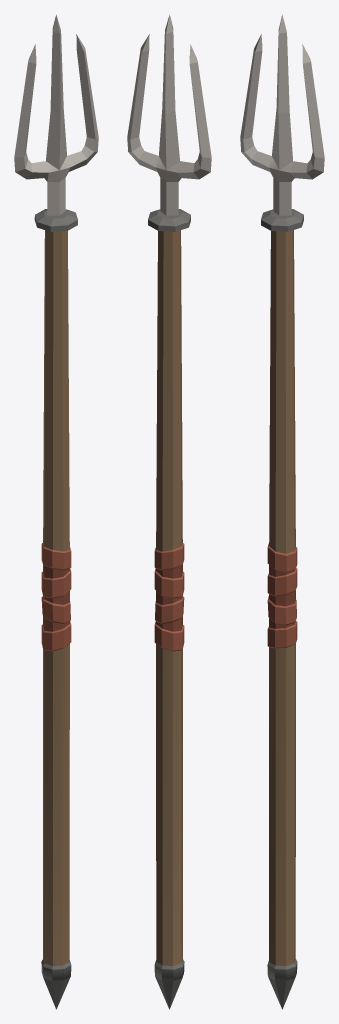
The model's file is SM_pwe_china_spear_03.fbx.
3 renders of one model, left to right at view 1: azimuth 30°, elevation 25°; view 2: azimuth 150°, elevation 25°; view 3: azimuth 330°, elevation 25°, orthographic.
Parts seen in each view (by area): view 1: SM_pwe_china_spear_03; view 2: SM_pwe_china_spear_03; view 3: SM_pwe_china_spear_03.
Boxes of the visible parts, <box> form: SM_pwe_china_spear_03: <box>14,14,98,1009</box>; SM_pwe_china_spear_03: <box>127,14,211,1009</box>; SM_pwe_china_spear_03: <box>240,14,324,1009</box>.
Bounding box in the file's own units: 17.51 × 197 × 8.02.
